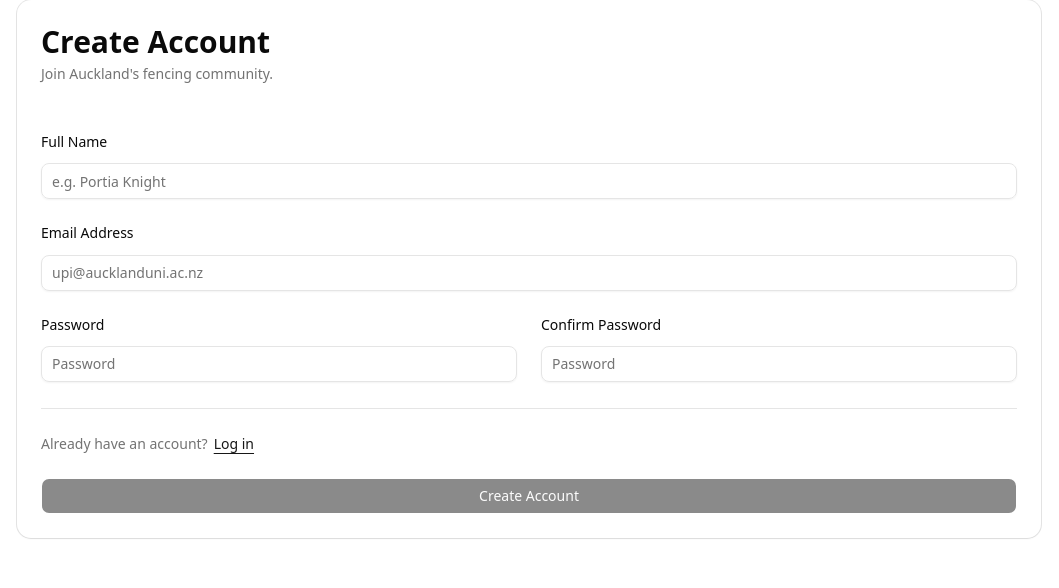
Test: RegisterForm › shows a validation error when passwords do not match
Type "Jane Doe" into the field with placeholder "e.g. Portia Knight".
click(529, 181); type("Jane Doe")  # box [41,163,1017,199]
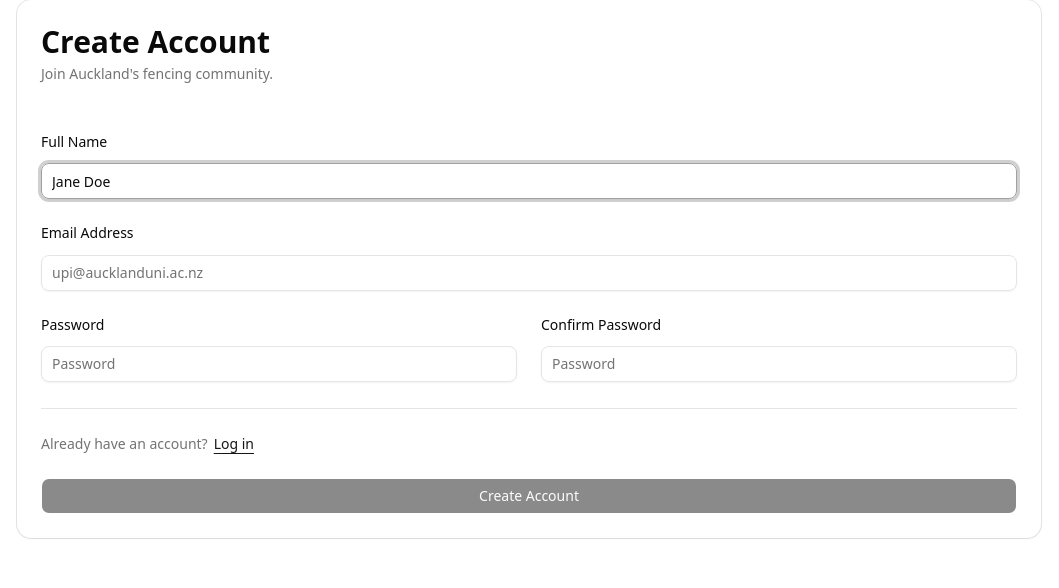
Type "jane@example.com" into the field with placeholder "upi@aucklanduni.ac.nz".
click(529, 272); type("jane@example.com")  # box [41,254,1017,290]
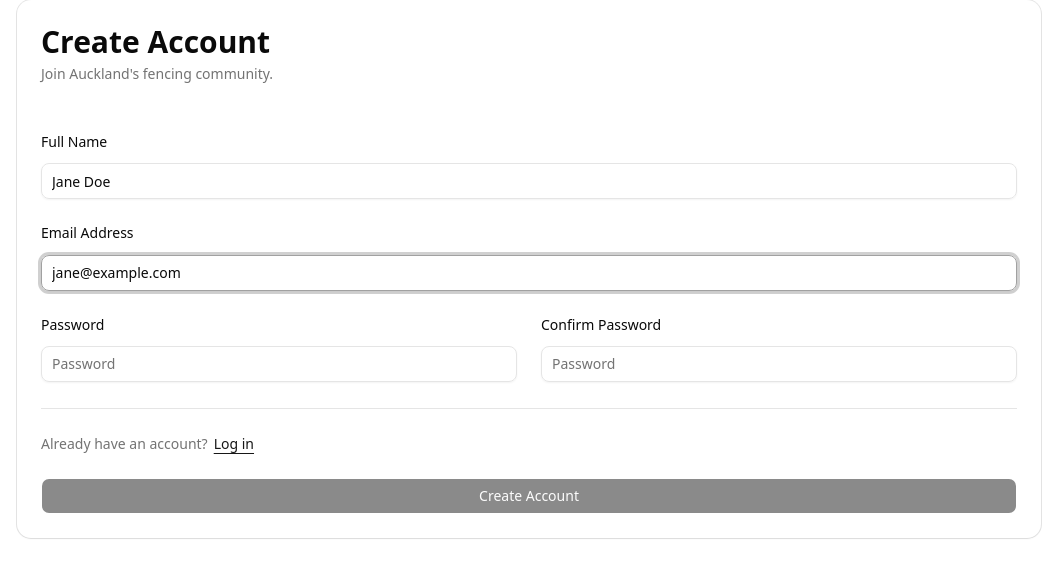
Type "password123" into the password field labelled "Password".
click(279, 364); type("password123")  # box [41,346,517,382]
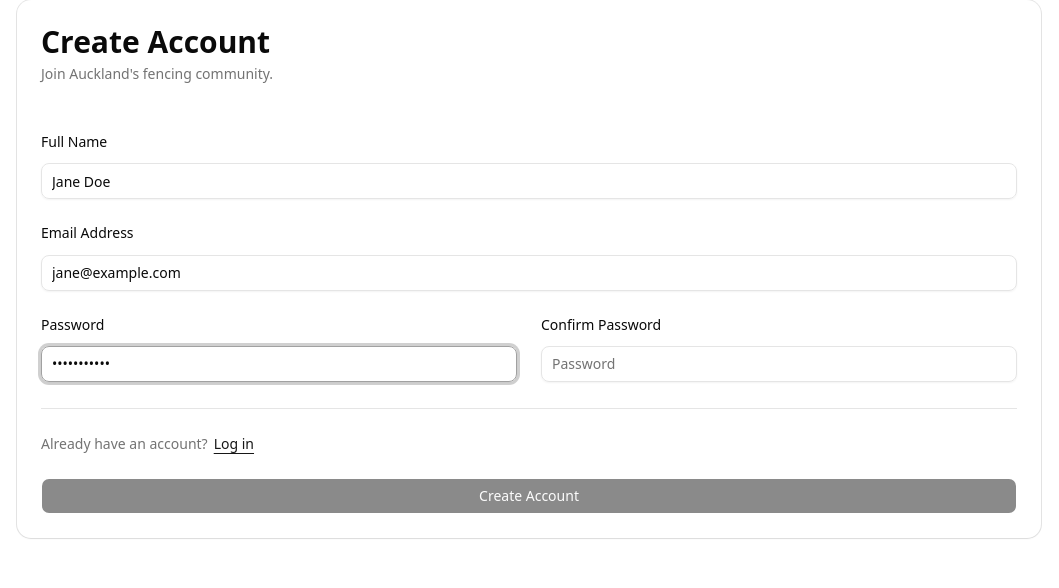
Type "somethingElse" into the password field labelled "Confirm Password".
click(779, 364); type("somethingElse")  # box [541,346,1017,382]
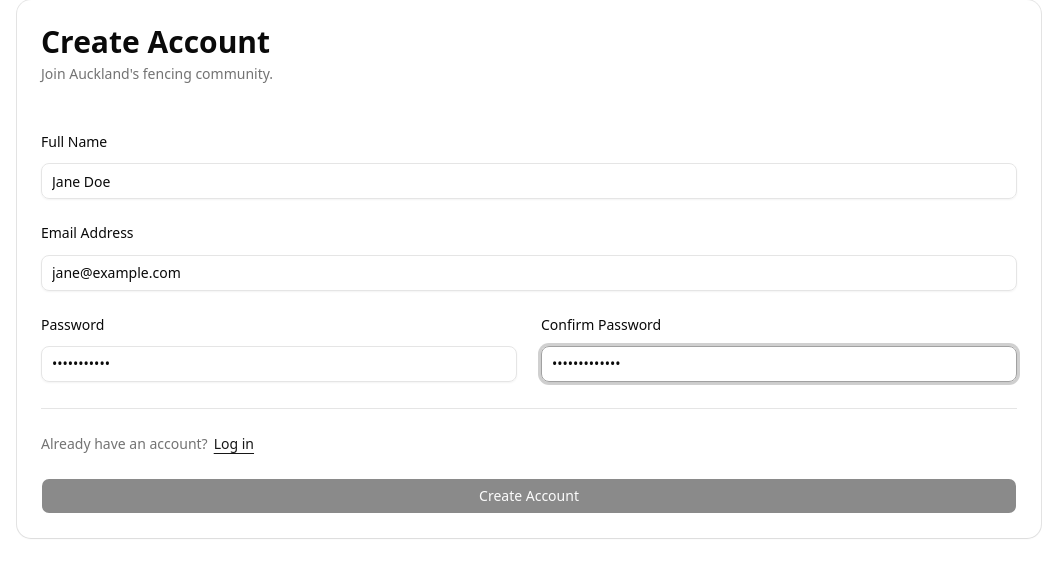
Press Tab
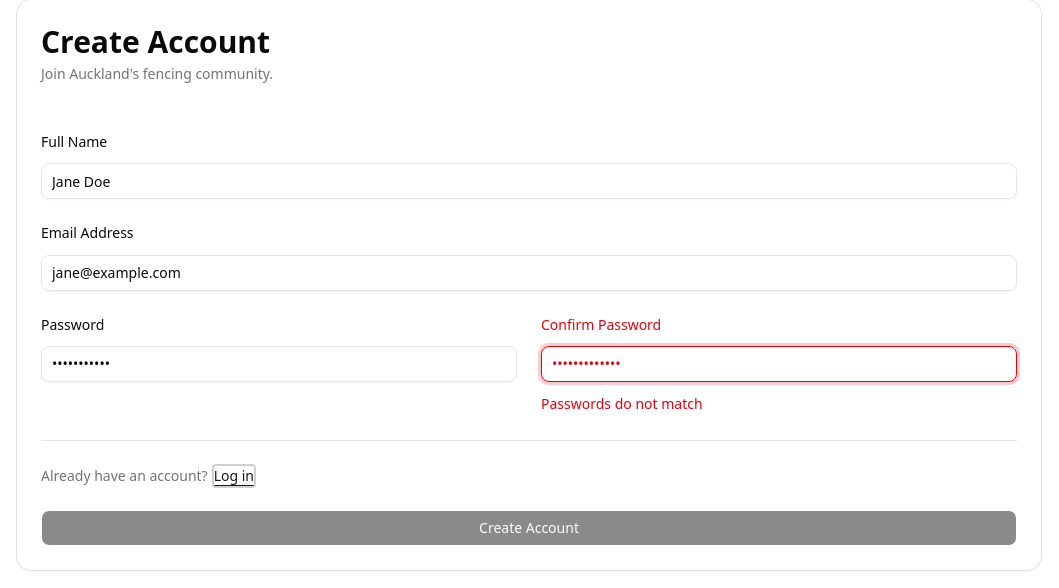
Expected: the button "Create Account" is disabled, [41,510,1017,546]
Now the text "Passwords do not match" is shown, box [541,394,703,413]
